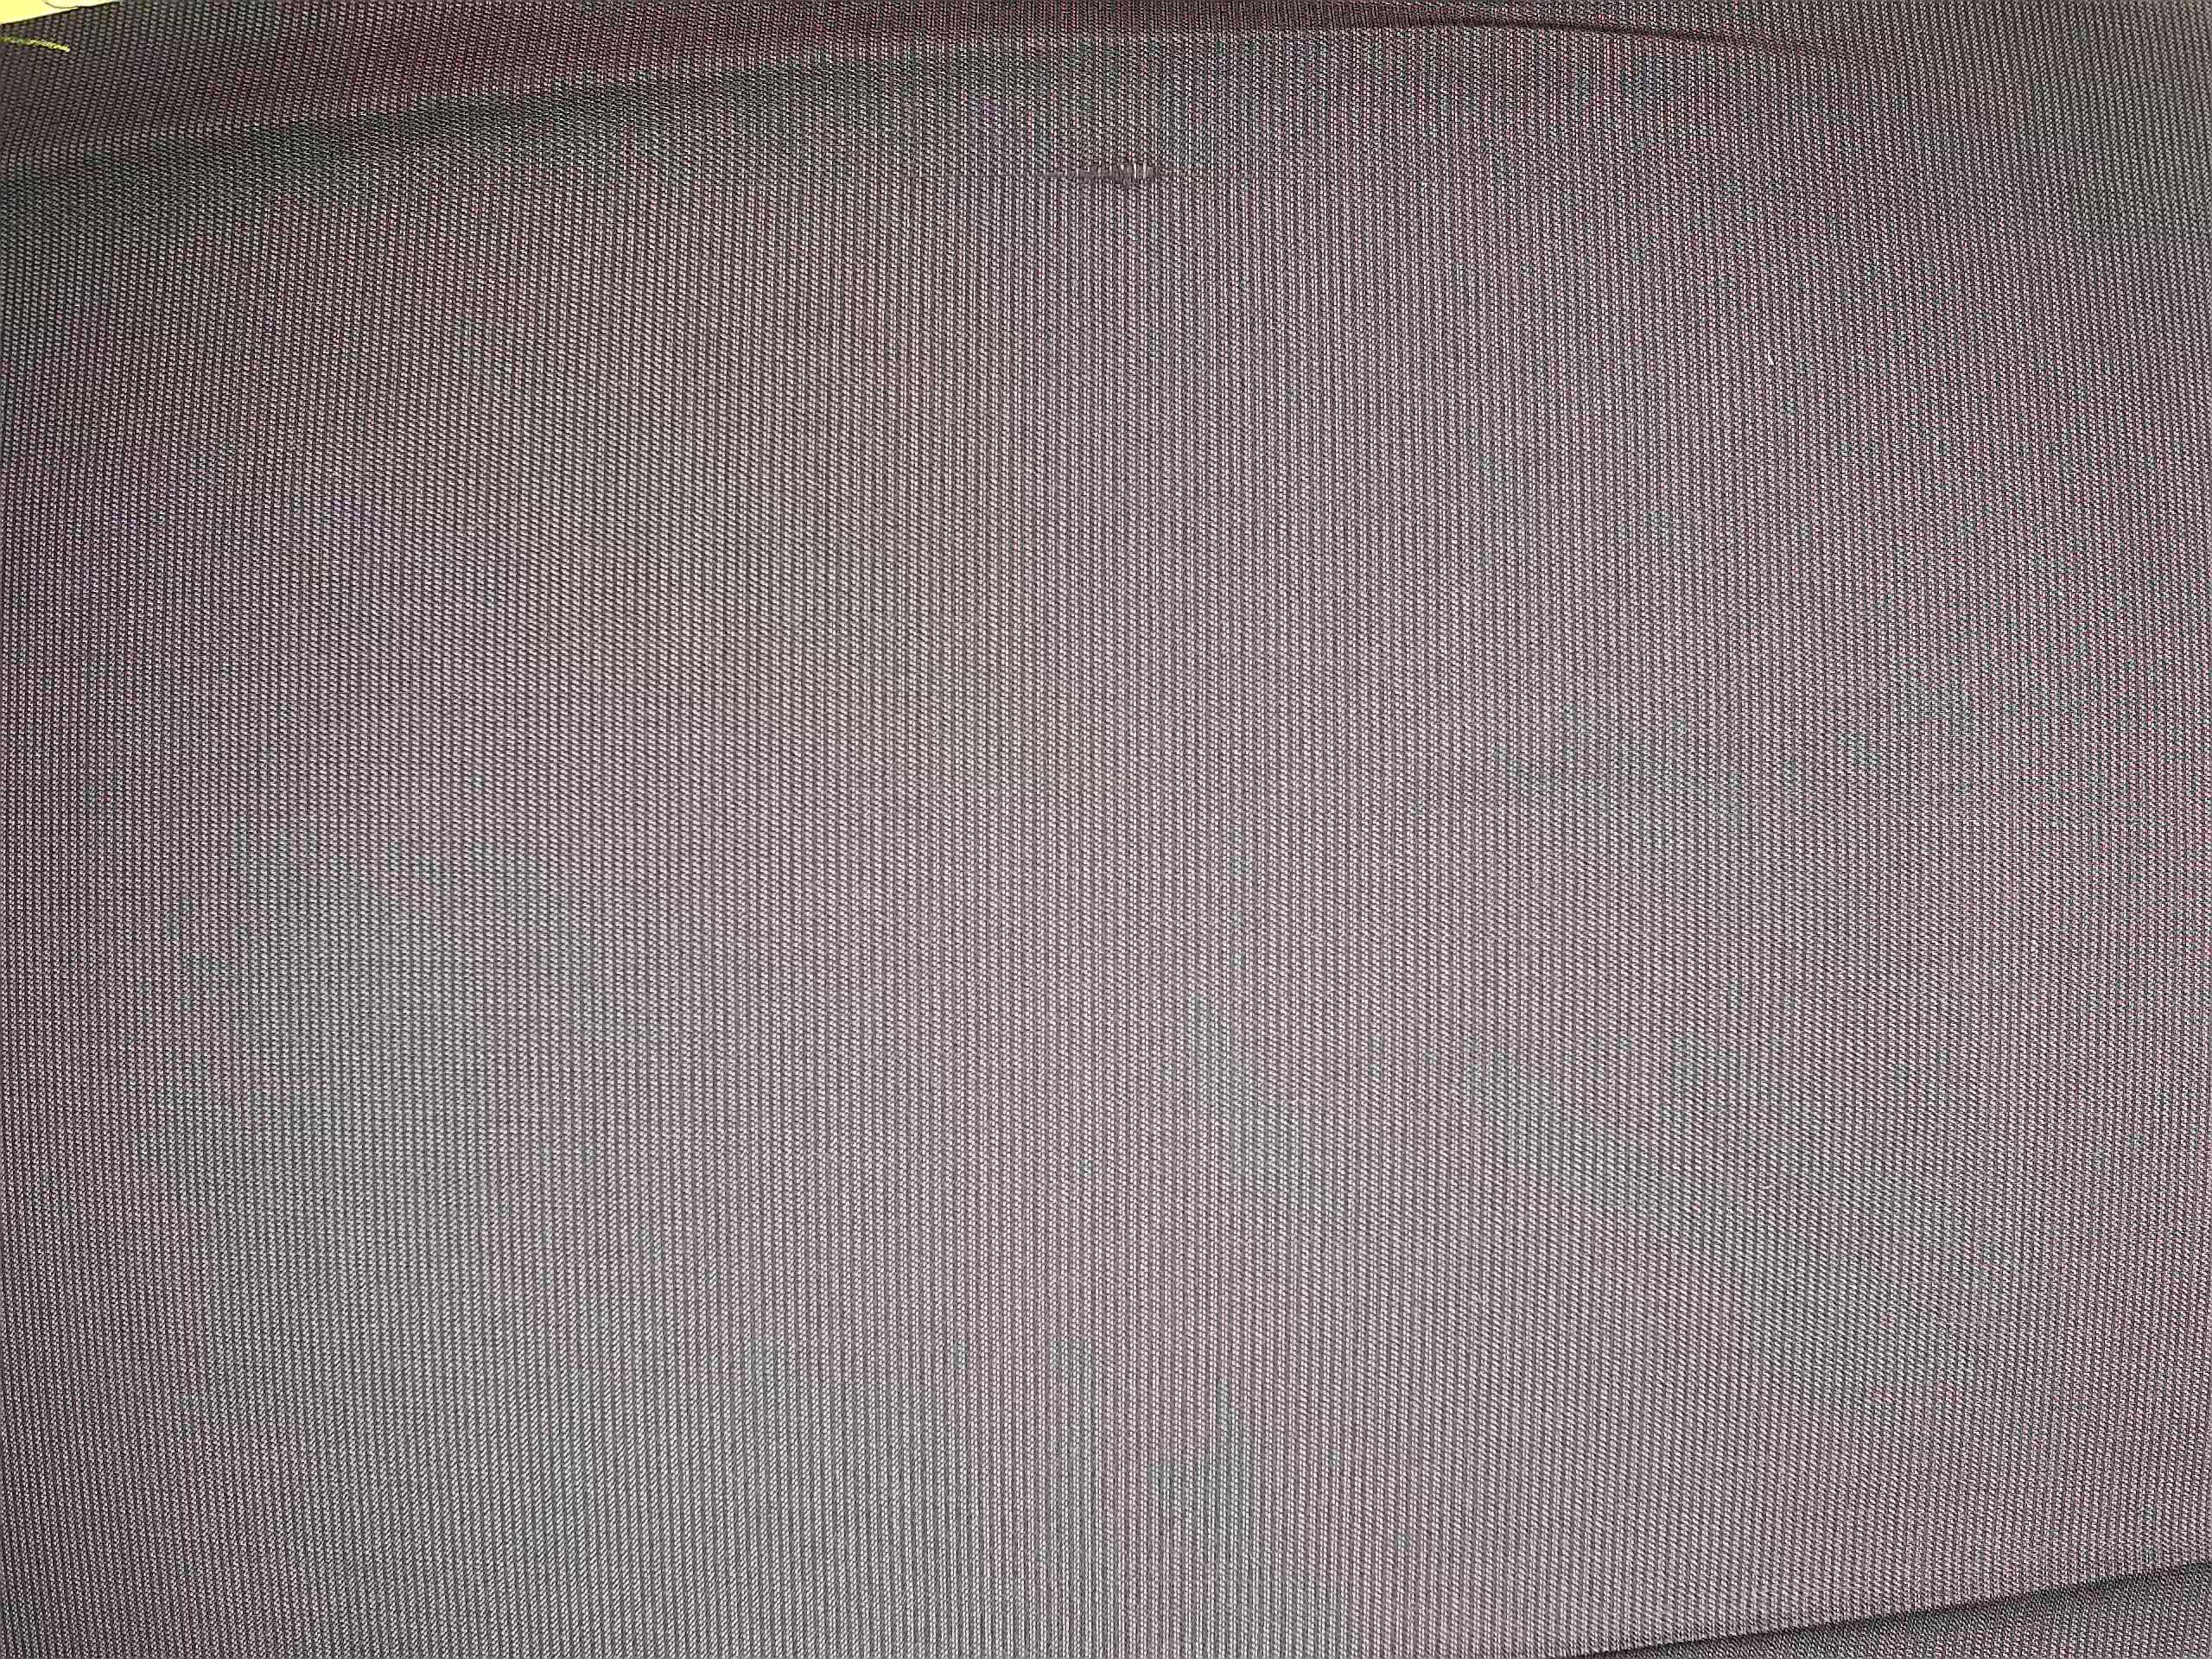others: (831, 129, 1254, 211)
